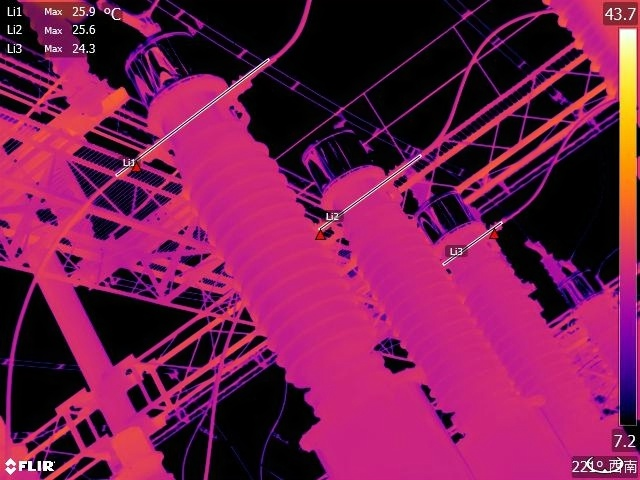current transformer: (121, 27, 474, 480), (297, 117, 561, 480), (415, 178, 618, 480), (551, 262, 619, 369)
post insulator: (17, 1, 91, 74)
